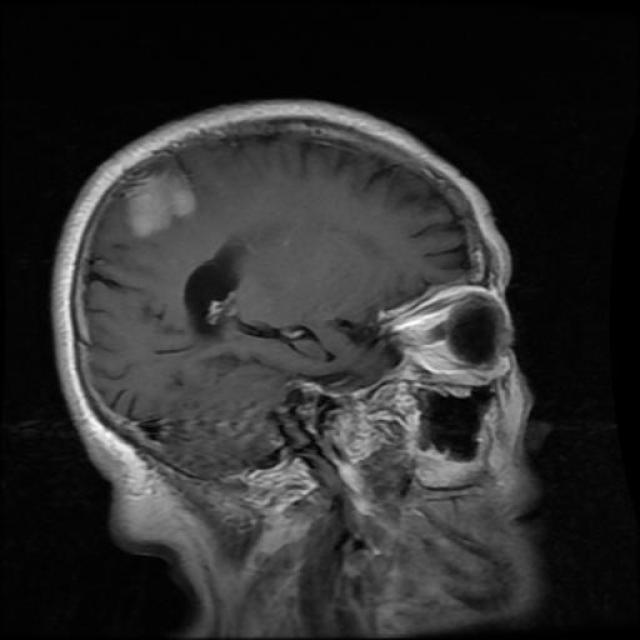meningioma: (126, 171, 196, 239)
